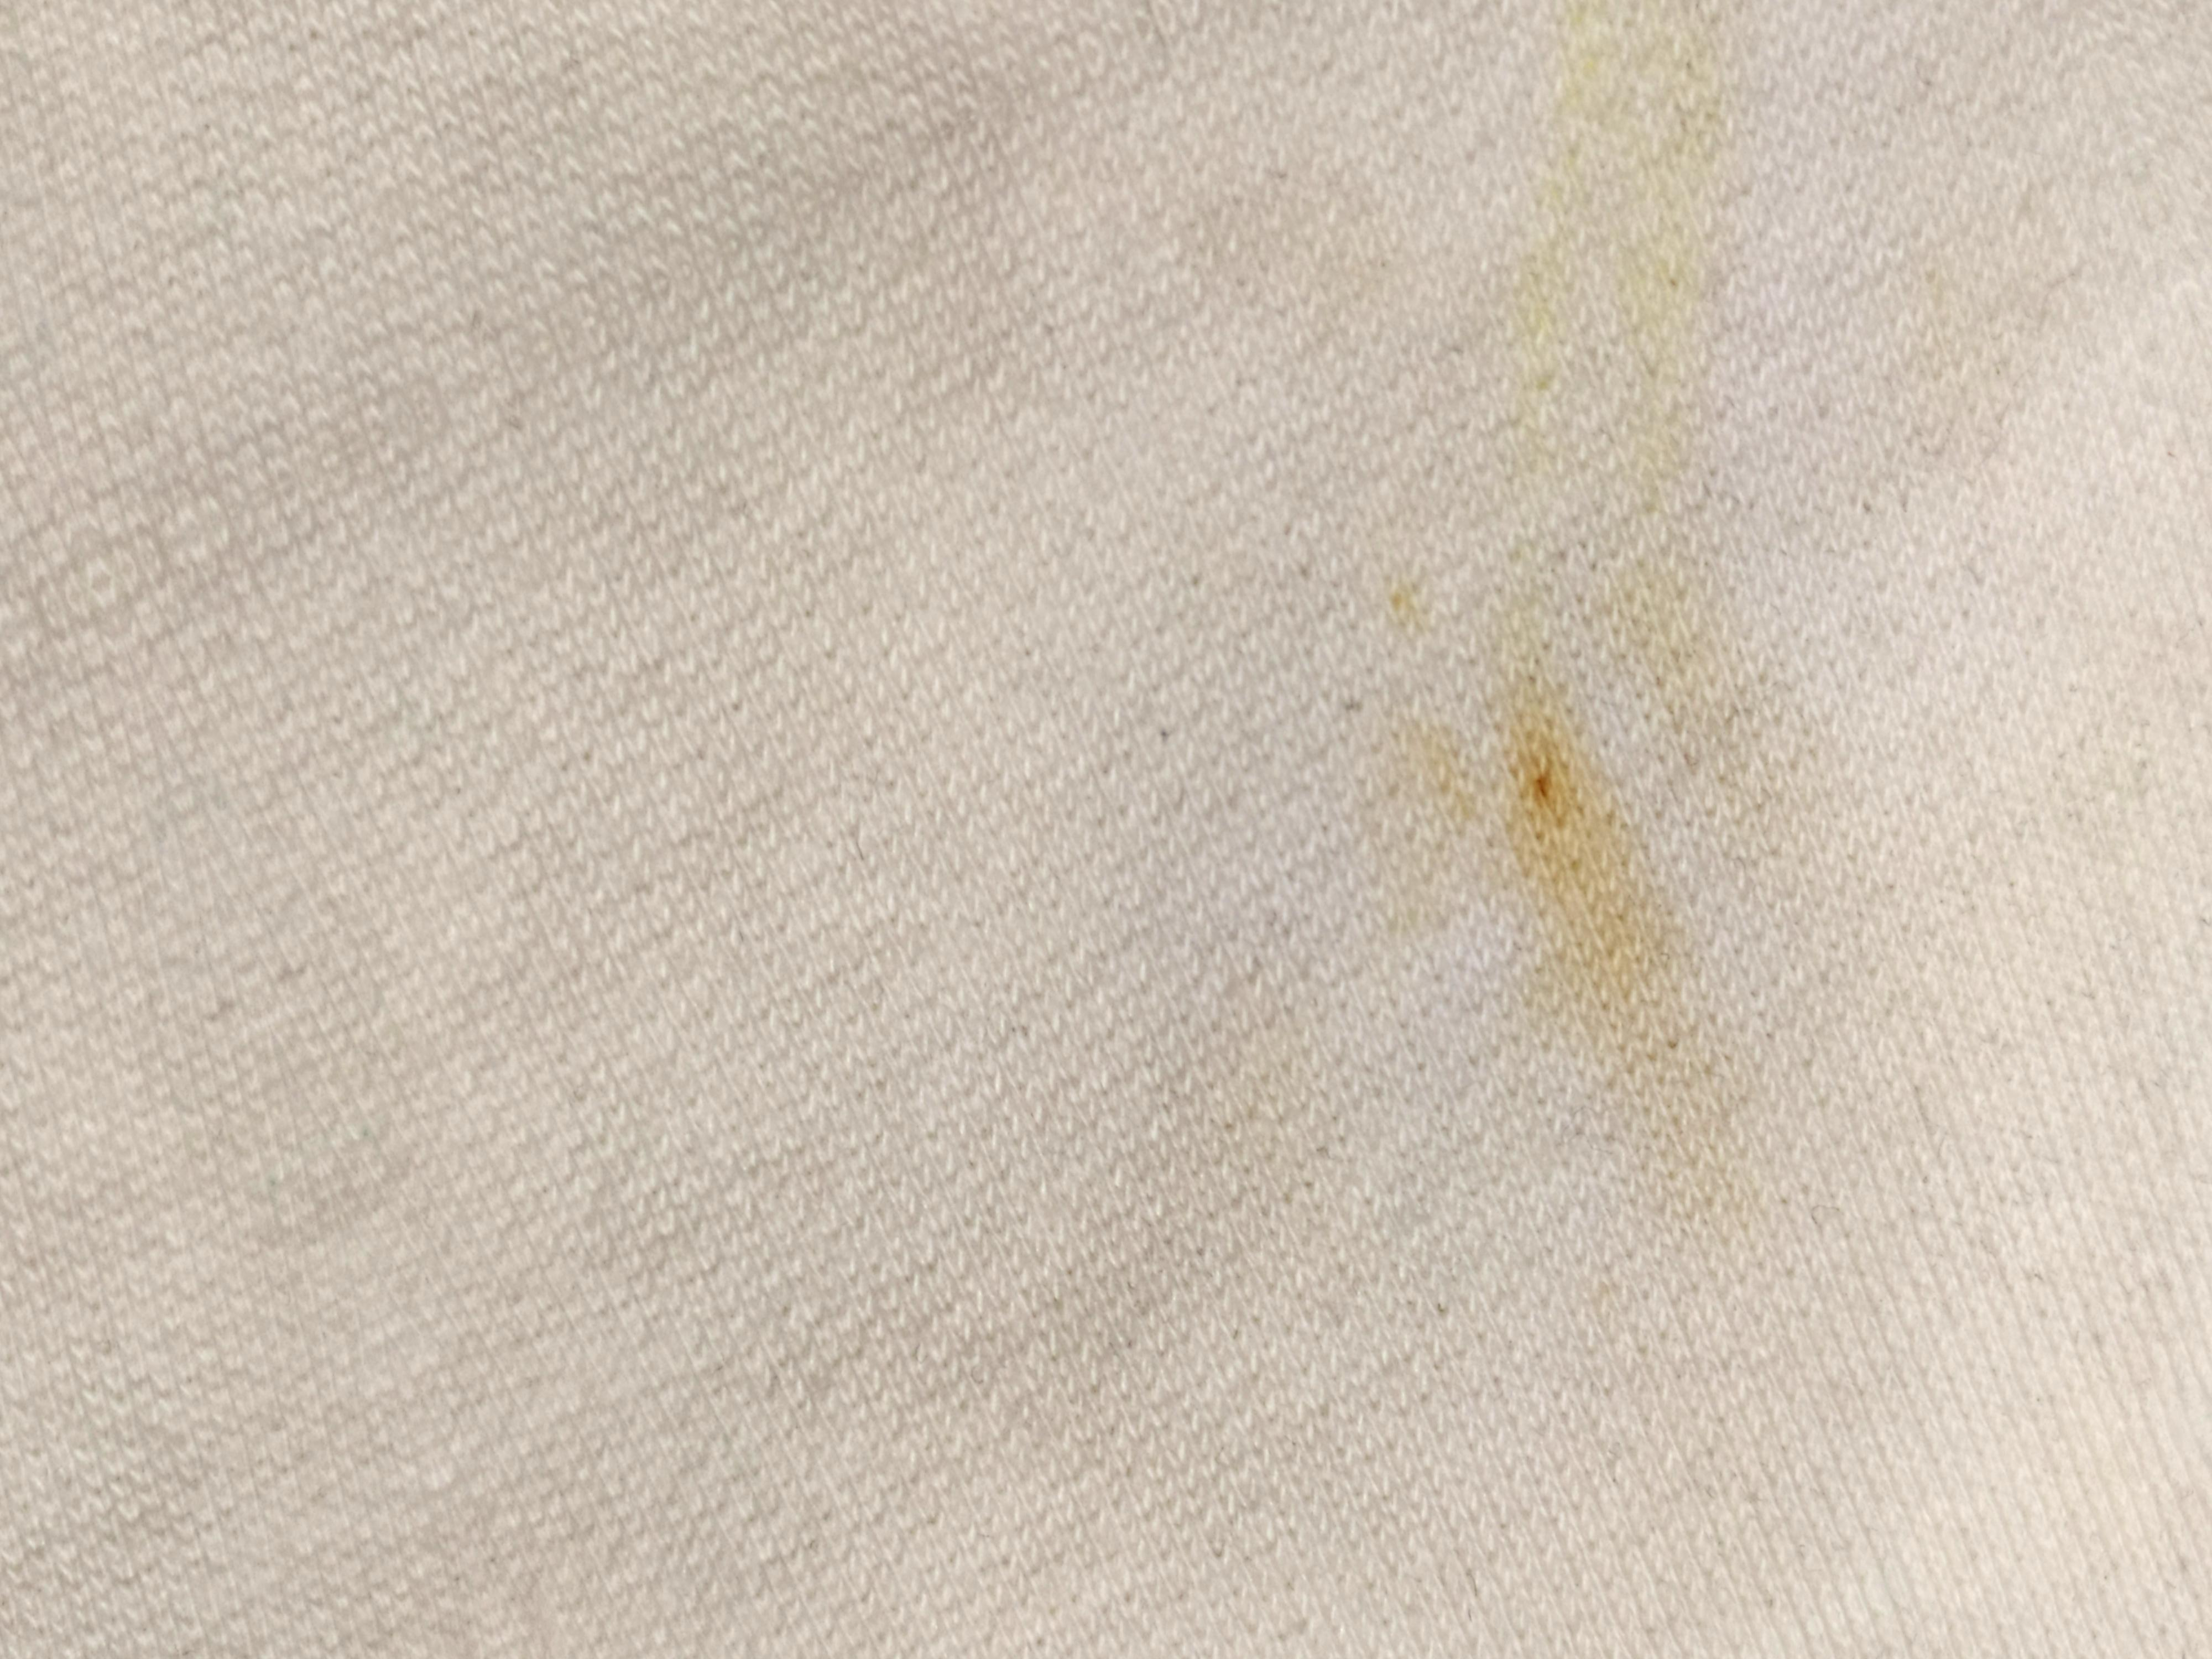stain: (1444, 650, 1665, 986)
